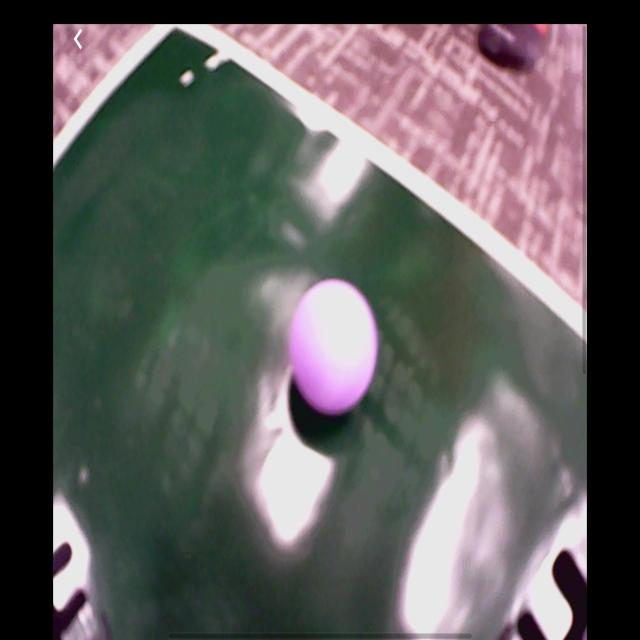ball: (291, 281, 376, 411)
